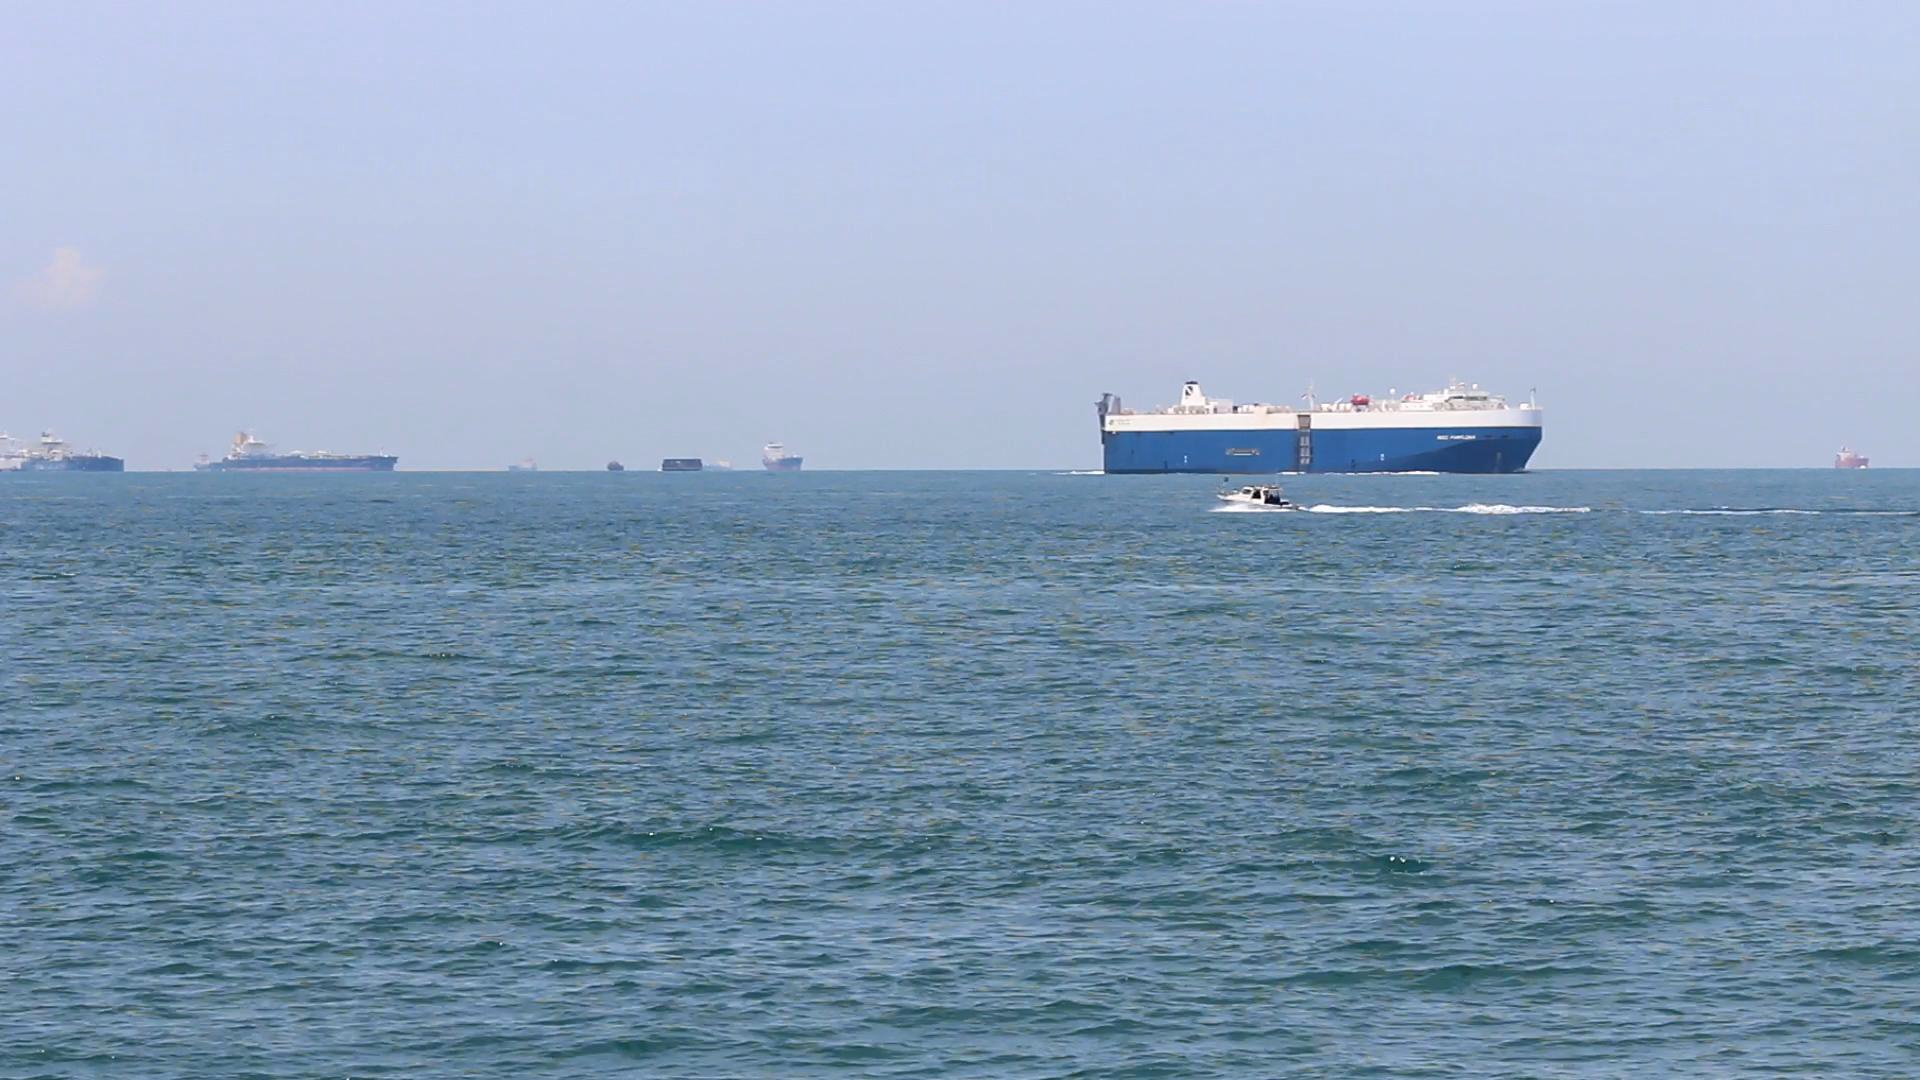Container Ship: (1095, 367, 1549, 487), (220, 426, 407, 476), (0, 426, 137, 476), (758, 431, 814, 476), (182, 443, 223, 475)
